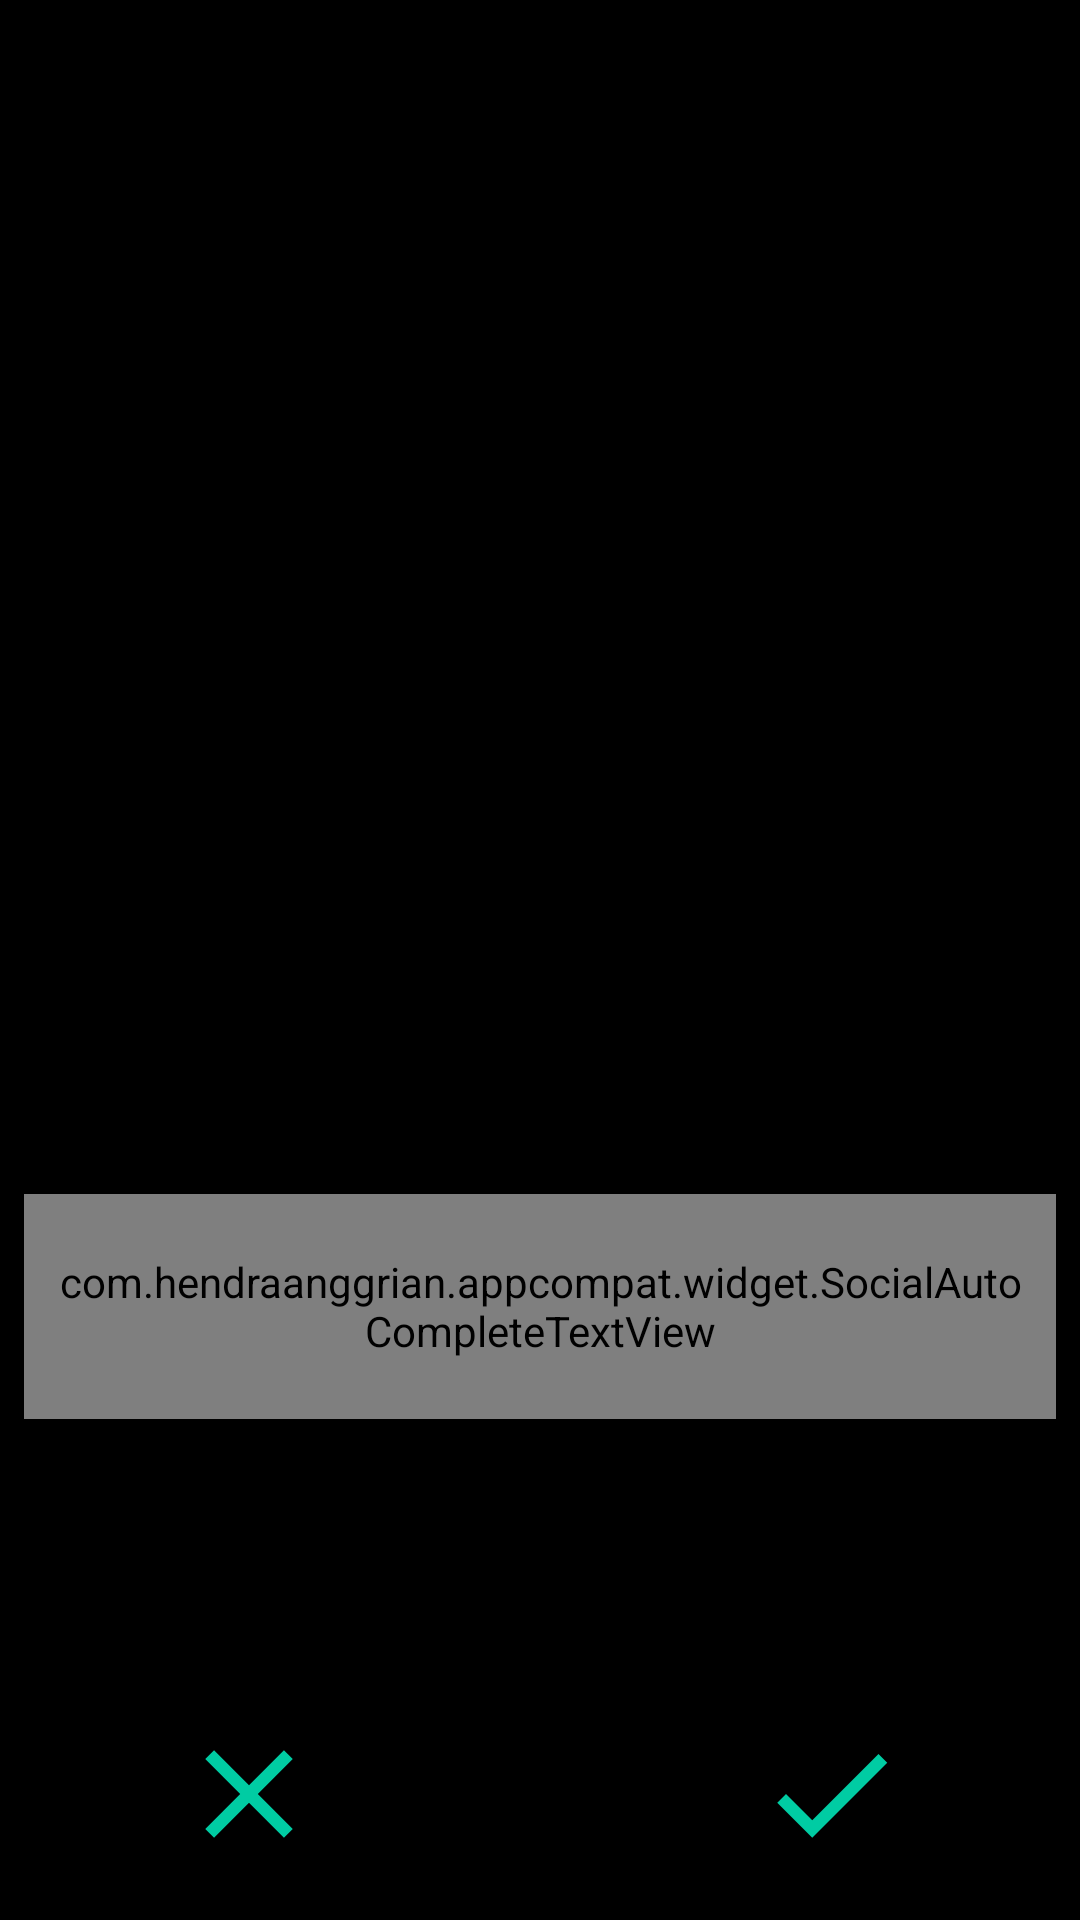

Named icons in this screenshot (1080 x 1920) and their centers, [x,y]:
close: [249,1794]
done: [832,1796]
